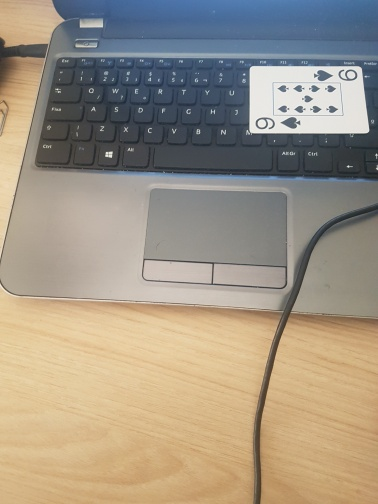nine: (247, 64, 370, 135)
